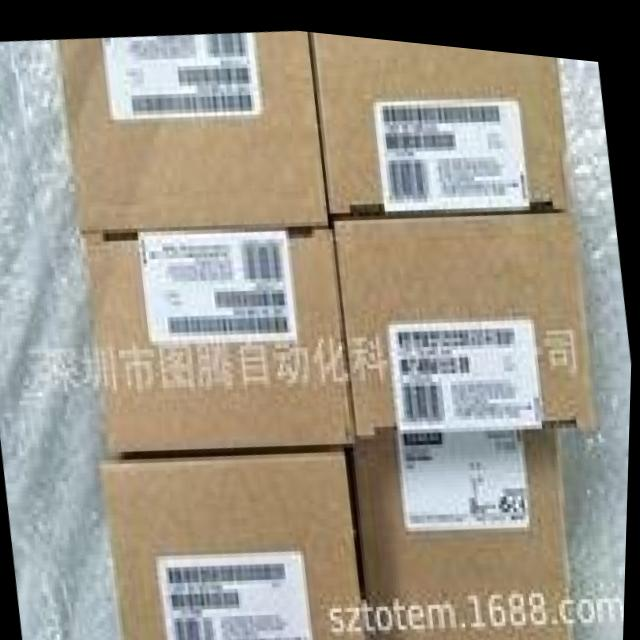box: (82, 222, 354, 458), (332, 200, 601, 432), (56, 24, 333, 236), (101, 440, 370, 640), (354, 415, 577, 640), (311, 27, 572, 210)
